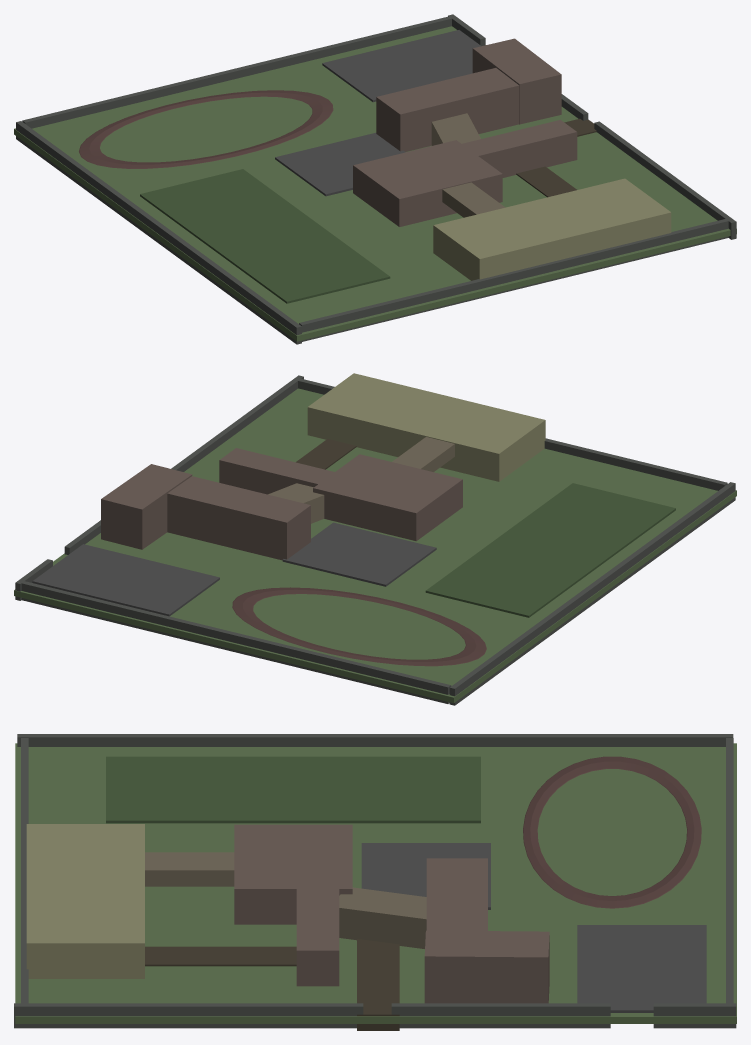
File: school.fbx
3 views of the same model, one above another, from view 1: azimuth 30°, elevation 25°; view 2: azimuth 150°, elevation 25°; view 3: azimuth 270°, elevation 25° (orthographic). The views are drawn at different scales.
Parts seen in each view (by area): view 1: pCube1, pasted__pasted__pasted__pCube2 (×3), pasted__pasted__pasted__pasted__pasted__pCube2 (×2), pasted__pCube2 (×3), pasted__pasted__pCube2 (×2), pCube2, pasted__pasted__pasted__pasted__pCube2 (×2), pasted__pasted__pasted__pasted__pasted__pasted__pasted__pCub, pasted__pasted__pasted__pasted__pasted__pasted__pCube2, pTorus1; view 2: pCube1, pasted__pasted__pasted__pCube2 (×3), pasted__pasted__pasted__pasted__pasted__pCube2 (×2), pasted__pasted__pCube2 (×2), pasted__pCube2 (×3), pCube2, pasted__pasted__pasted__pasted__pCube2 (×2), pasted__pasted__pasted__pasted__pasted__pasted__pCube2, pTorus1, pasted__pasted__pasted__pasted__pasted__pasted__pasted__pCub; view 3: pCube1, pasted__pasted__pasted__pCube2 (×3), pasted__pasted__pasted__pasted__pasted__pCube2 (×3), pasted__pCube2 (×3), pasted__pasted__pasted__pasted__pCube2 (×3), pasted__pasted__pCube2 (×2), pTorus1, pCube2, pasted__pasted__pasted__pasted__pasted__pasted__pCube2 (×2), pasted__pasted__pasted__pasted__pasted__pasted__pasted__pCub.
Part boxes in pixels (x1,y1,x2,y2): pCube1: (14, 26, 736, 341); pasted__pasted__pasted__pCube2 (×3): (140, 166, 671, 303); pasted__pasted__pasted__pasted__pasted__pCube2 (×2): (16, 30, 481, 344); pasted__pCube2 (×3): (431, 38, 577, 177); pasted__pasted__pCube2 (×2): (353, 140, 505, 226); pCube2: (376, 68, 519, 151); pasted__pasted__pasted__pasted__pCube2 (×2): (275, 121, 736, 239); pasted__pasted__pasted__pasted__pasted__pasted__pasted__pCub: (299, 219, 728, 341); pasted__pasted__pasted__pasted__pasted__pasted__pCube2: (22, 16, 451, 128); pTorus1: (79, 90, 333, 168); pCube1: (14, 388, 736, 703); pasted__pasted__pasted__pCube2 (×3): (296, 373, 675, 617); pasted__pasted__pasted__pasted__pasted__pCube2 (×2): (32, 482, 735, 705); pasted__pasted__pCube2 (×2): (313, 437, 462, 541); pasted__pCube2 (×3): (101, 448, 338, 549); pCube2: (167, 476, 310, 560); pasted__pasted__pasted__pasted__pCube2 (×2): (171, 375, 436, 586); pasted__pasted__pasted__pasted__pasted__pasted__pCube2: (21, 581, 451, 703); pTorus1: (232, 587, 486, 666); pasted__pasted__pasted__pasted__pasted__pasted__pasted__pCub: (298, 378, 727, 490); pCube1: (15, 743, 736, 1023); pasted__pasted__pasted__pCube2 (×3): (26, 756, 480, 978); pasted__pasted__pasted__pasted__pasted__pCube2 (×3): (17, 734, 733, 1028); pasted__pCube2 (×3): (296, 886, 549, 1003); pasted__pasted__pasted__pasted__pCube2 (×3): (14, 843, 490, 1030); pasted__pasted__pCube2 (×2): (145, 824, 352, 924); pTorus1: (523, 756, 701, 908); pCube2: (426, 858, 487, 930); pasted__pasted__pasted__pasted__pasted__pasted__pCube2 (×2): (653, 738, 736, 1028); pasted__pasted__pasted__pasted__pasted__pasted__pasted__pCub: (21, 738, 28, 1003).
Bounding box in the file's own units: 12.42 × 1.4 × 13.87.
